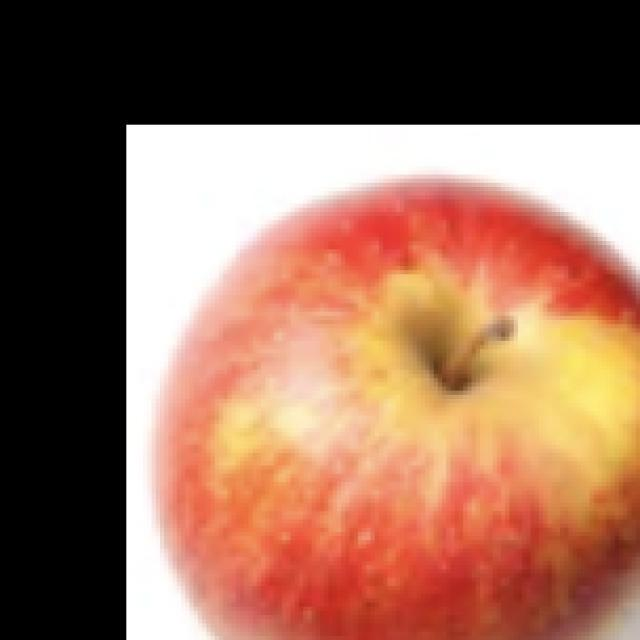Fresh Apple: (191, 180, 640, 640)
